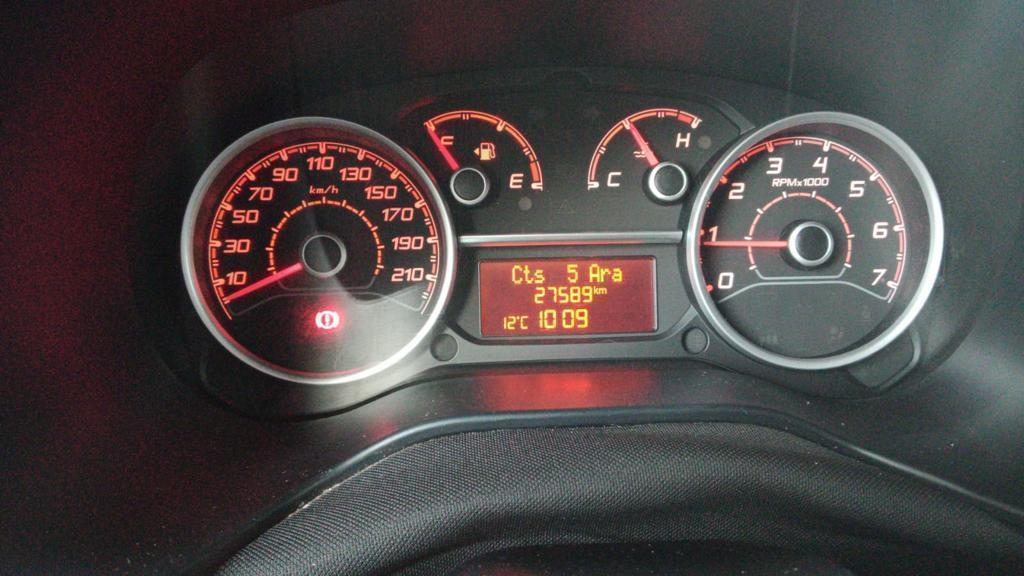0: (543, 308, 557, 329), (561, 308, 574, 329)
1: (536, 308, 542, 329), (501, 315, 506, 329)
2: (533, 286, 544, 304), (507, 314, 516, 330)
5: (565, 262, 579, 283), (557, 285, 569, 303)
7: (545, 285, 557, 304)
8: (569, 285, 580, 303)
9: (574, 307, 588, 328), (581, 285, 593, 303)
X: (510, 263, 523, 285), (588, 261, 600, 283), (522, 263, 534, 284), (611, 266, 623, 282), (534, 268, 545, 284), (600, 267, 611, 282), (520, 314, 529, 330), (598, 286, 607, 294), (593, 284, 598, 295), (516, 313, 520, 320)
odometer: (476, 252, 659, 338)
